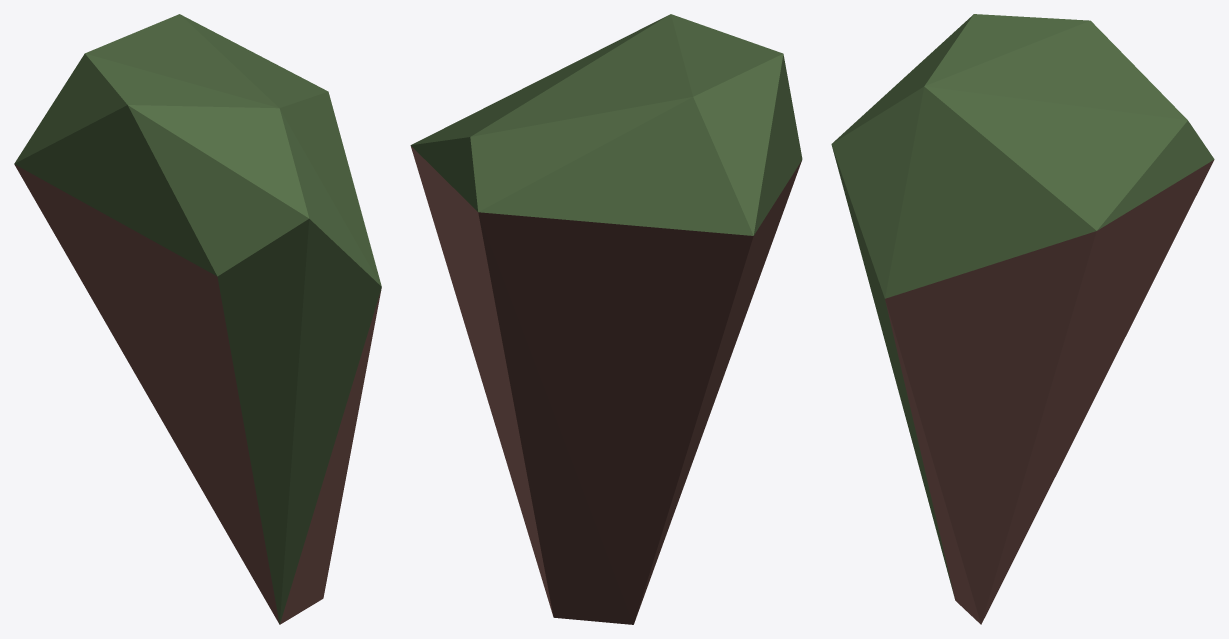
File: CommonTree_4.lod4.glb
3 views of the same model, side by side, from view 1: azimuth 30°, elevation 25°; view 2: azimuth 150°, elevation 25°; view 3: azimuth 270°, elevation 25° (orthographic). The views are drawn at different scales.
Visible parts, largest first — view 1: CommonTree_4; view 2: CommonTree_4; view 3: CommonTree_4.
Boxes of the visible parts, x1,y1,x2,y2 form: CommonTree_4: (14,14,381,624); CommonTree_4: (410,14,802,624); CommonTree_4: (831,14,1214,624).
Bounding box in the file's own units: 1.62 × 2.76 × 1.83.
